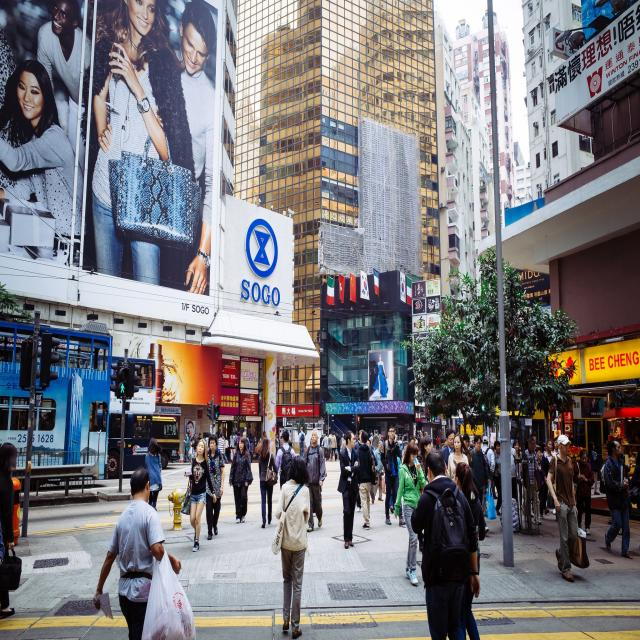body: (1, 0, 228, 293), (91, 464, 184, 639), (409, 448, 482, 640), (270, 453, 312, 640), (545, 433, 589, 582), (453, 460, 487, 640), (392, 441, 428, 586), (0, 326, 106, 371), (180, 436, 218, 552), (0, 440, 23, 621), (602, 438, 634, 558), (336, 428, 362, 550), (379, 424, 408, 527), (469, 434, 498, 536), (301, 426, 327, 533), (202, 432, 226, 541), (90, 401, 152, 441), (570, 447, 596, 537), (254, 435, 279, 528), (228, 436, 254, 525), (356, 430, 378, 530), (0, 396, 58, 432), (521, 437, 543, 526), (417, 437, 432, 553), (479, 435, 496, 517), (144, 437, 162, 511), (539, 438, 555, 520), (444, 432, 470, 482), (275, 430, 296, 491), (534, 446, 550, 515), (371, 353, 391, 401), (628, 441, 640, 519), (438, 428, 456, 476), (388, 454, 402, 514), (512, 439, 523, 511), (587, 441, 601, 496), (373, 440, 384, 502), (493, 440, 502, 515), (366, 439, 376, 505), (510, 436, 518, 504), (0, 518, 11, 567), (318, 470, 329, 508), (611, 435, 627, 461), (599, 463, 608, 497), (321, 432, 331, 462), (182, 430, 191, 463), (329, 431, 338, 462), (461, 433, 473, 456), (396, 432, 417, 445), (298, 426, 306, 458), (217, 431, 226, 459), (229, 430, 237, 461), (400, 434, 410, 458), (574, 422, 584, 446), (185, 421, 195, 444), (222, 432, 229, 464), (334, 429, 341, 460), (354, 429, 364, 450), (188, 438, 195, 467), (530, 432, 540, 452), (551, 436, 560, 457), (248, 432, 254, 463), (372, 429, 380, 452), (242, 430, 250, 452), (164, 424, 178, 436), (590, 395, 598, 415), (204, 432, 212, 451), (327, 432, 332, 462), (252, 433, 258, 458), (234, 431, 241, 452), (224, 437, 230, 460), (275, 433, 280, 458), (538, 439, 547, 452), (489, 432, 498, 444), (398, 436, 403, 456), (605, 515, 614, 526), (340, 432, 346, 447), (287, 437, 294, 449), (341, 434, 346, 450), (416, 433, 422, 446), (366, 433, 372, 446), (418, 431, 424, 443), (369, 432, 374, 446), (214, 434, 219, 448), (256, 436, 262, 447), (618, 526, 624, 537), (435, 434, 439, 450), (436, 434, 440, 450), (472, 433, 476, 449), (320, 433, 324, 448), (379, 434, 384, 446), (440, 434, 445, 446), (443, 436, 448, 448), (468, 442, 474, 452), (489, 444, 495, 454), (312, 508, 318, 517), (552, 421, 558, 430), (432, 434, 436, 447), (193, 432, 198, 441), (197, 433, 203, 440), (354, 434, 358, 444), (309, 436, 313, 446), (414, 436, 418, 444), (356, 434, 360, 442), (423, 432, 428, 438), (378, 434, 382, 441), (461, 435, 465, 442), (235, 429, 238, 438), (285, 427, 290, 432), (427, 433, 431, 439), (316, 440, 320, 446), (386, 433, 389, 440), (246, 433, 249, 439), (413, 423, 415, 431), (489, 428, 492, 431), (394, 432, 395, 432)
